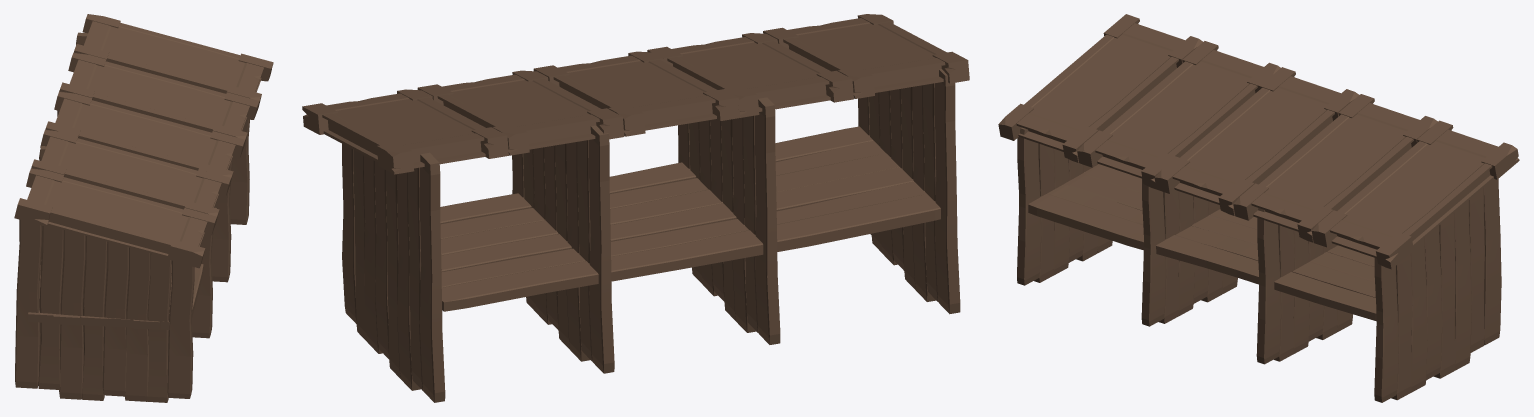
The model's file is JiWoJia.fbx.
The picture shows the model from 3 angles, left to right: view 1: azimuth 30°, elevation 25°; view 2: azimuth 150°, elevation 25°; view 3: azimuth 270°, elevation 25°; orthographic projection. The views are drawn at different scales.
Visible parts, largest first — view 1: JiWoJia; view 2: JiWoJia; view 3: JiWoJia.
Part boxes in pixels (x1,y1,x2,y2): JiWoJia: (14, 14, 273, 402); JiWoJia: (302, 14, 969, 402); JiWoJia: (998, 14, 1519, 402).
Bounding box in the file's own units: 569 × 279 × 622.
